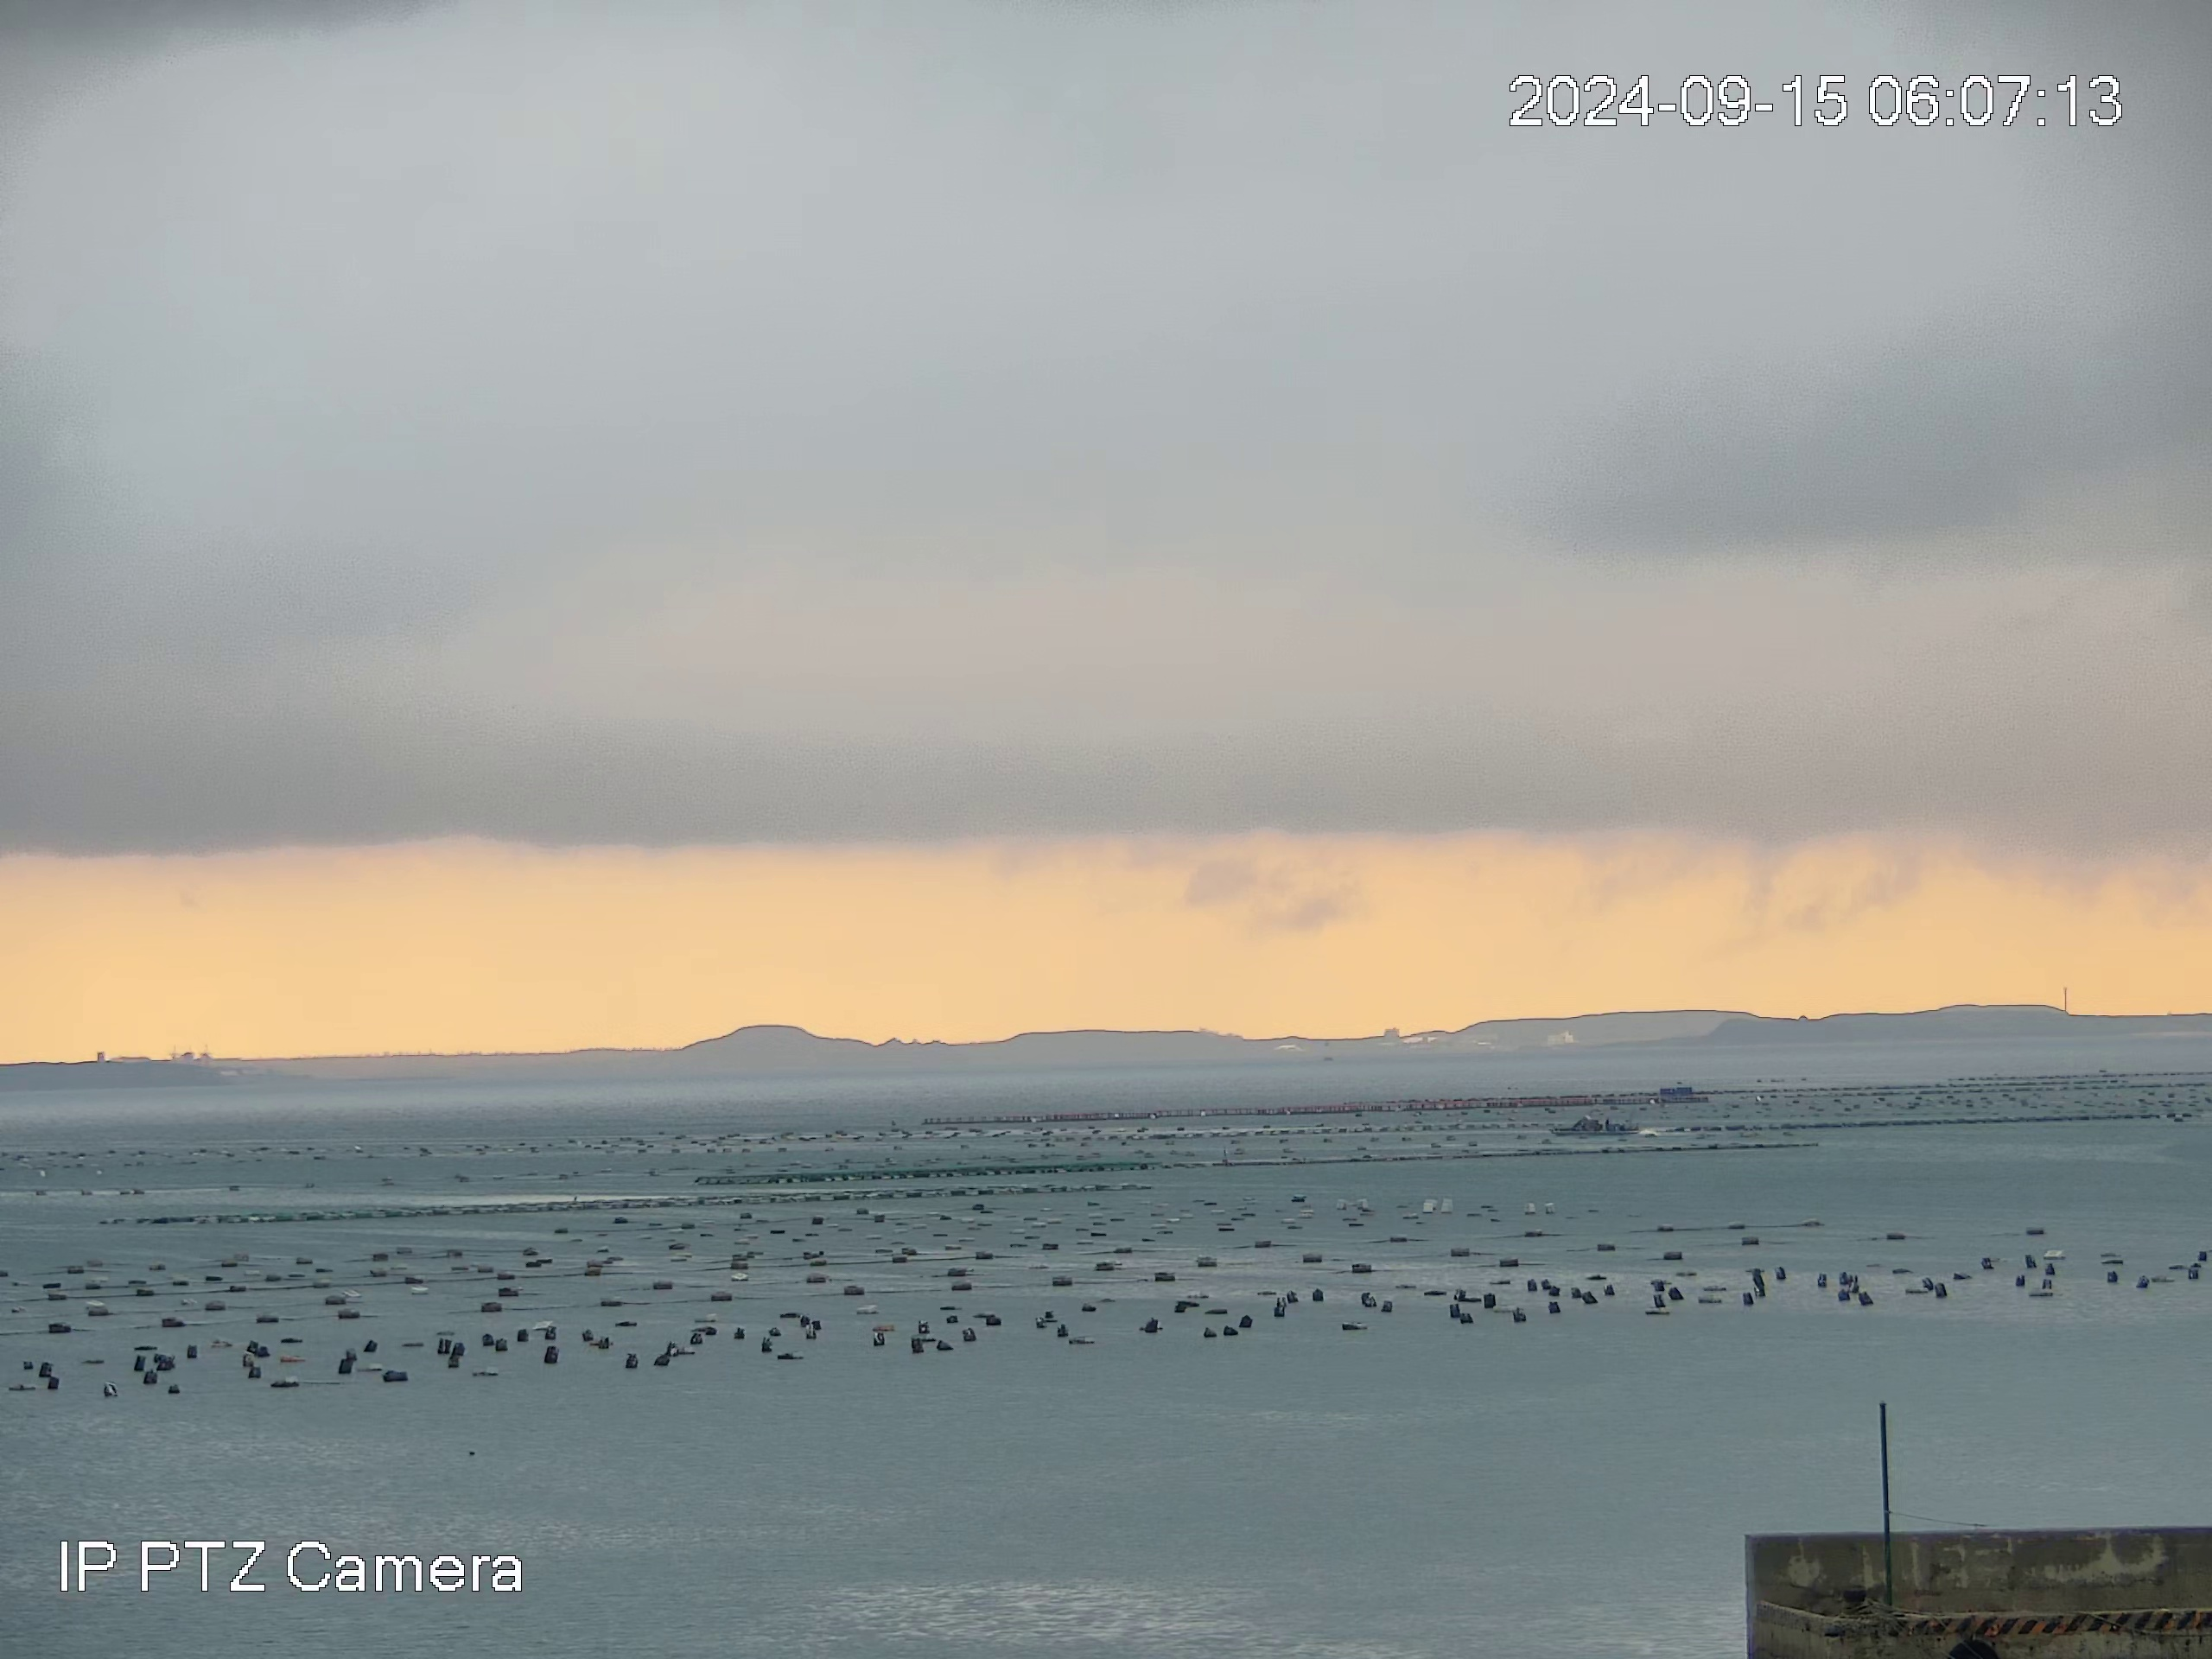boat: (1550, 1112, 1646, 1138)
